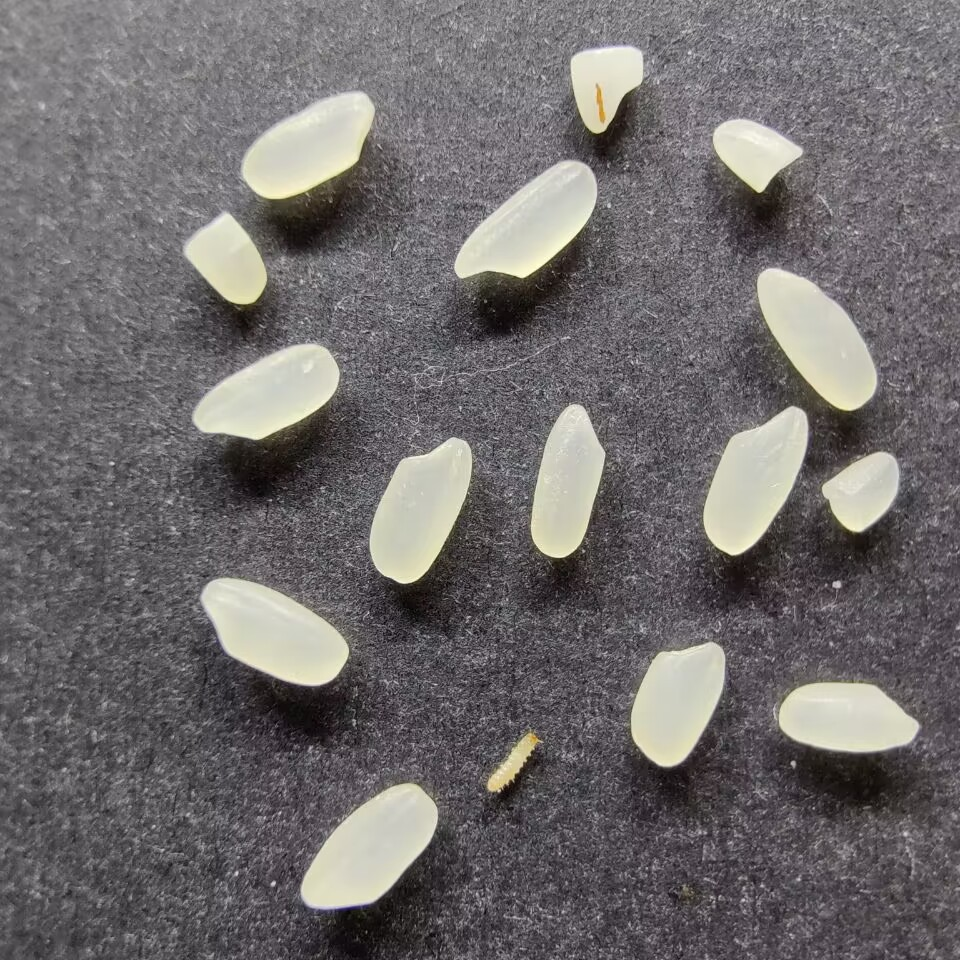broken: (182, 210, 267, 305), (711, 118, 805, 194), (567, 44, 645, 135), (819, 449, 901, 535)
others: (486, 728, 540, 794)
rice: (754, 266, 881, 413), (297, 781, 440, 909), (453, 159, 598, 281), (701, 403, 810, 556), (199, 576, 348, 687), (367, 436, 473, 584), (239, 89, 376, 200), (191, 342, 340, 441), (628, 641, 728, 768), (528, 402, 607, 559), (777, 681, 920, 753)
